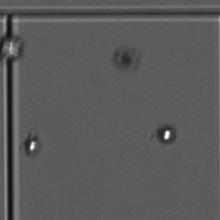Dead Cell: (109, 41, 142, 77)
Living Cell: (155, 121, 180, 148), (1, 36, 25, 59), (22, 134, 43, 156)
